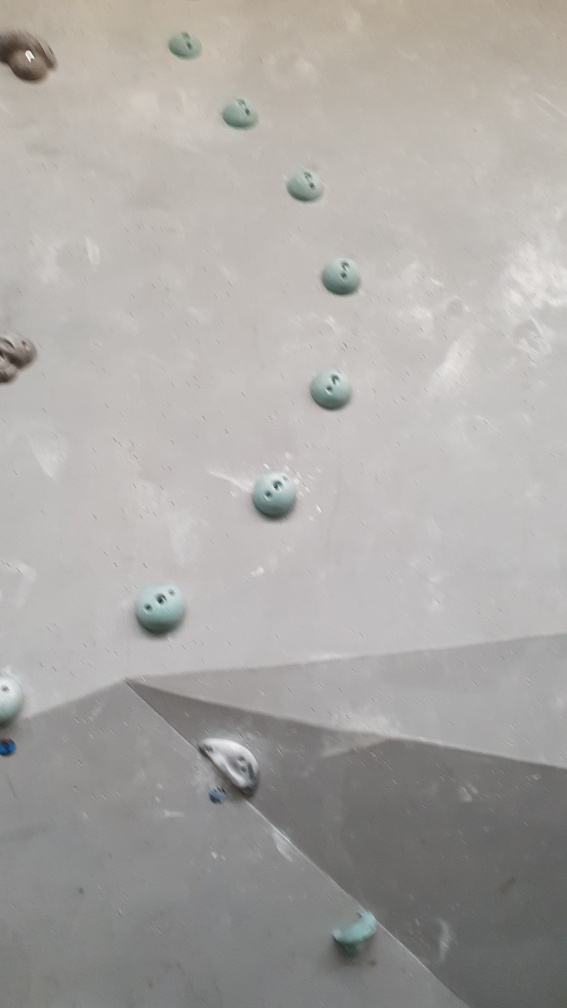Hand Start: (1, 736, 24, 760), (210, 784, 227, 806)
Jug: (326, 900, 379, 961)
Sloper: (132, 577, 191, 640), (249, 466, 303, 529), (309, 365, 355, 415), (321, 251, 365, 301), (1, 673, 30, 735), (221, 95, 262, 130), (286, 167, 325, 203), (164, 29, 205, 59)
